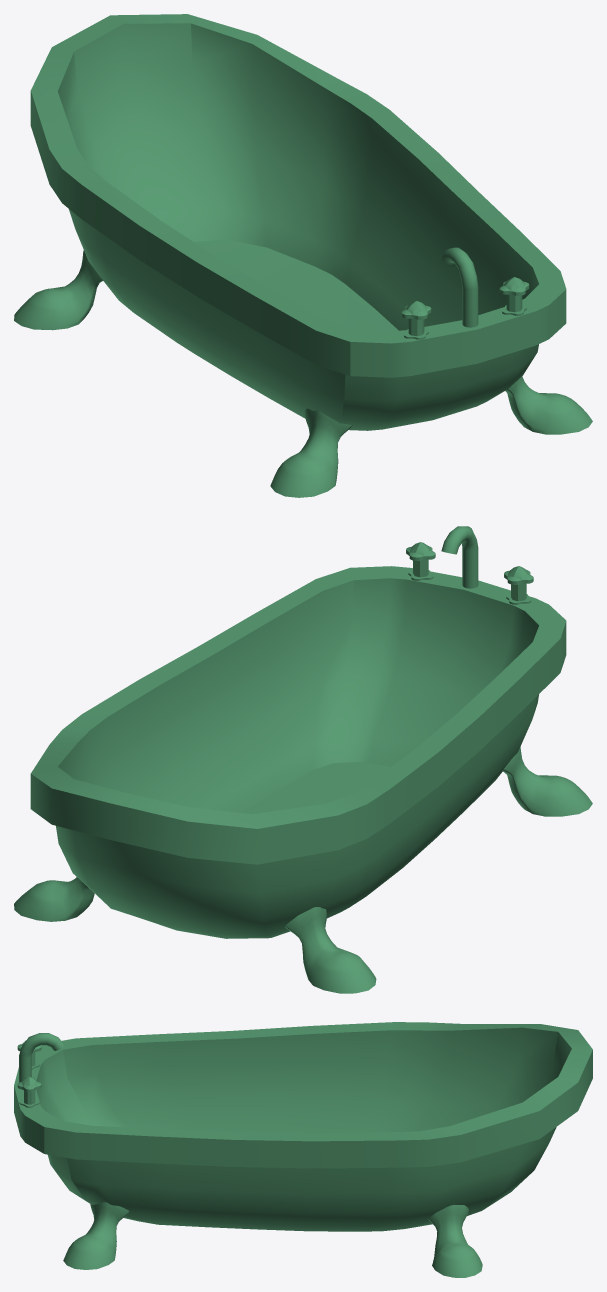
Rendered from Bathtub_V2.fbx.
The picture shows the model from 3 angles, top to bottom: view 1: azimuth 30°, elevation 25°; view 2: azimuth 150°, elevation 25°; view 3: azimuth 270°, elevation 25°; orthographic projection. The views are drawn at different scales.
Visible parts, largest first — view 1: Bathtub; view 2: Bathtub; view 3: Bathtub.
Boxes of the visible parts, x1,y1,x2,y2 form: Bathtub: (14, 14, 592, 497); Bathtub: (14, 526, 592, 993); Bathtub: (14, 1022, 592, 1277).
Bounding box in the file's own units: 256 × 154 × 459.
